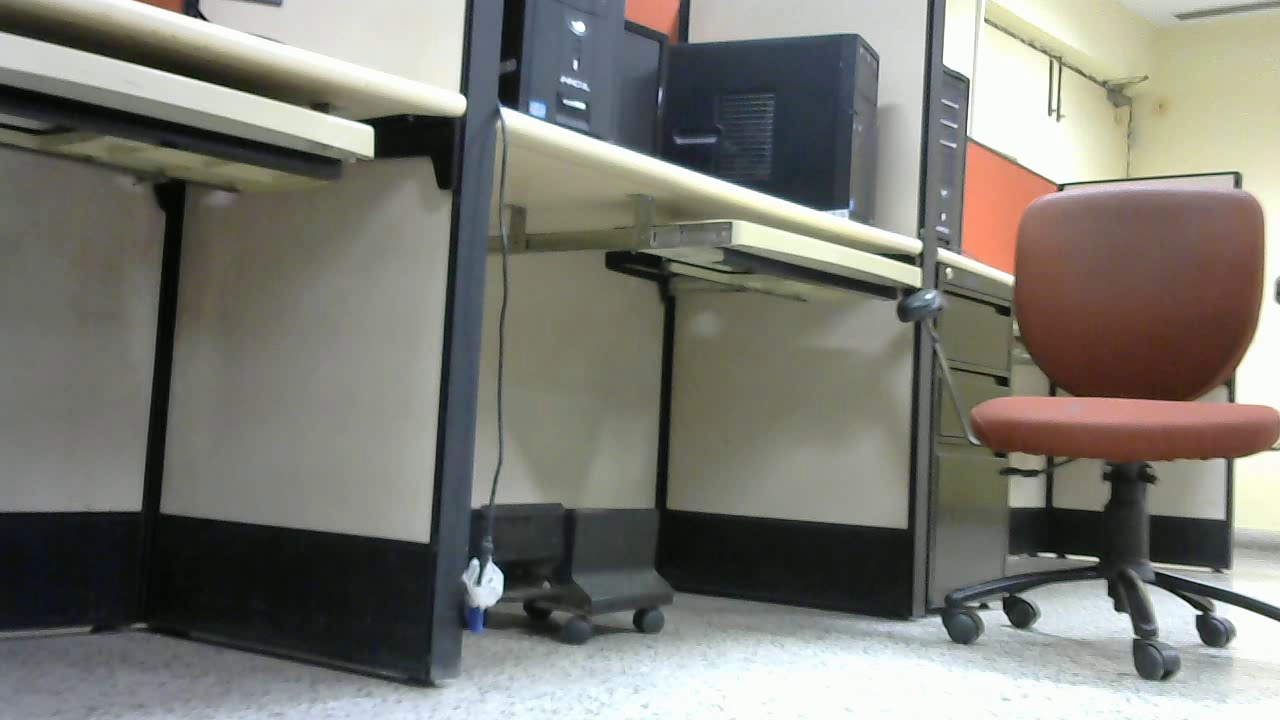chair: (442, 5, 969, 720), (1, 213, 122, 517)
